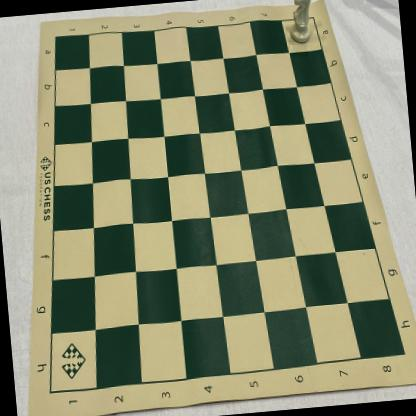knight: (286, 0, 317, 47)
